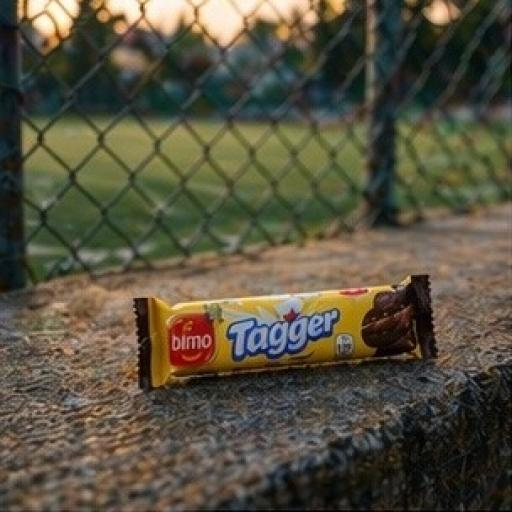tagger: (125, 249, 488, 456)
